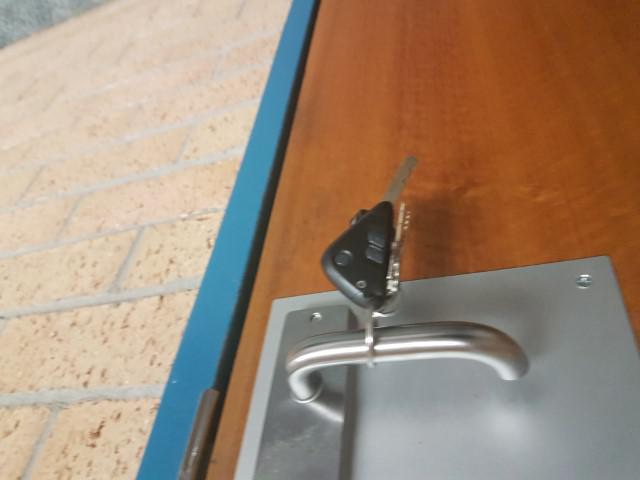key: (319, 156, 417, 310)
